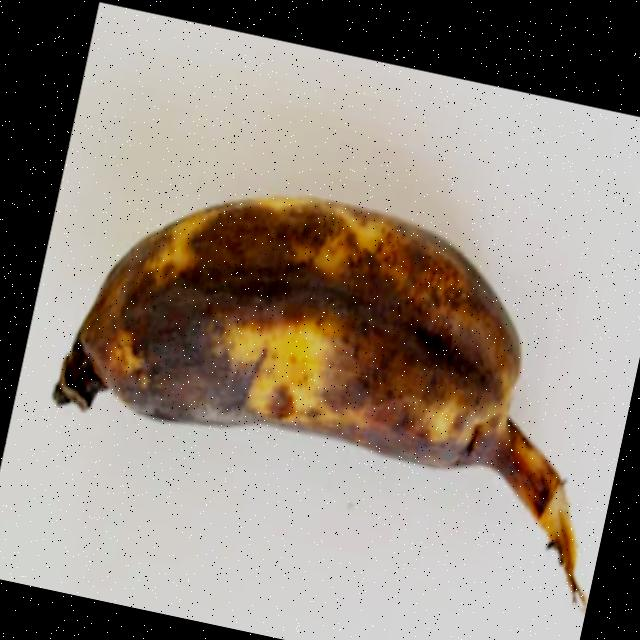Rotten: (28, 121, 640, 613)
